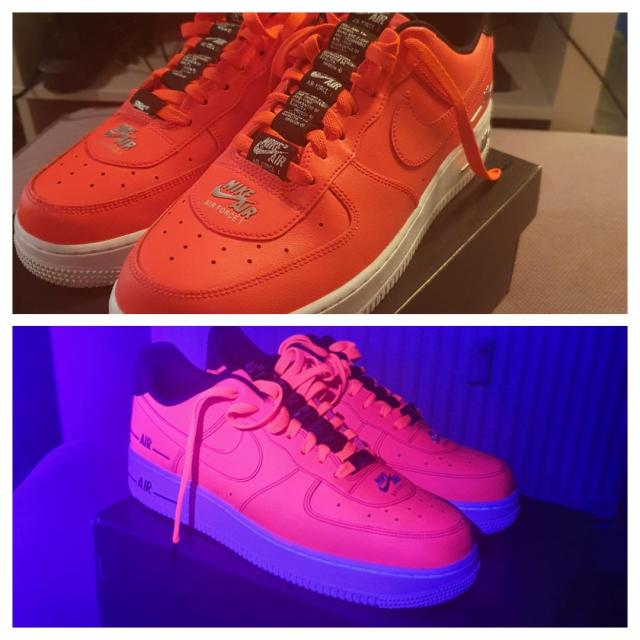shoe: (14, 0, 494, 313), (126, 322, 538, 610)
